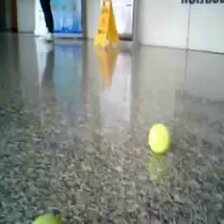tennis: (148, 123, 172, 154)
